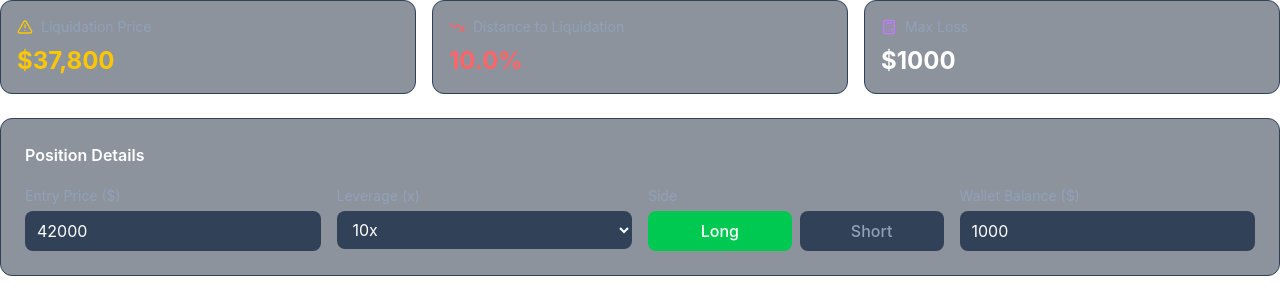
Test: LiquidationCalculator › updates liquidation price when leverage changes
This screenshot has width=1280, height=293.
Select "20x" in the dropdown at [484, 230], box [336,211,632,249]
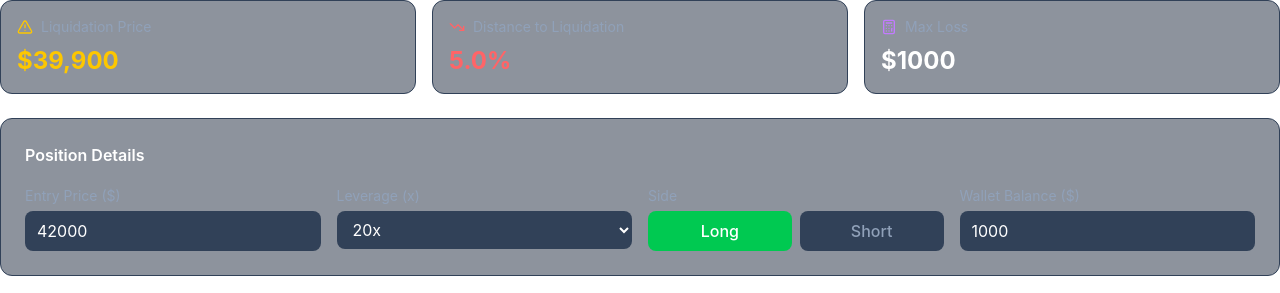
Expected: the text "39,900" is shown, [33,46,119,75]
